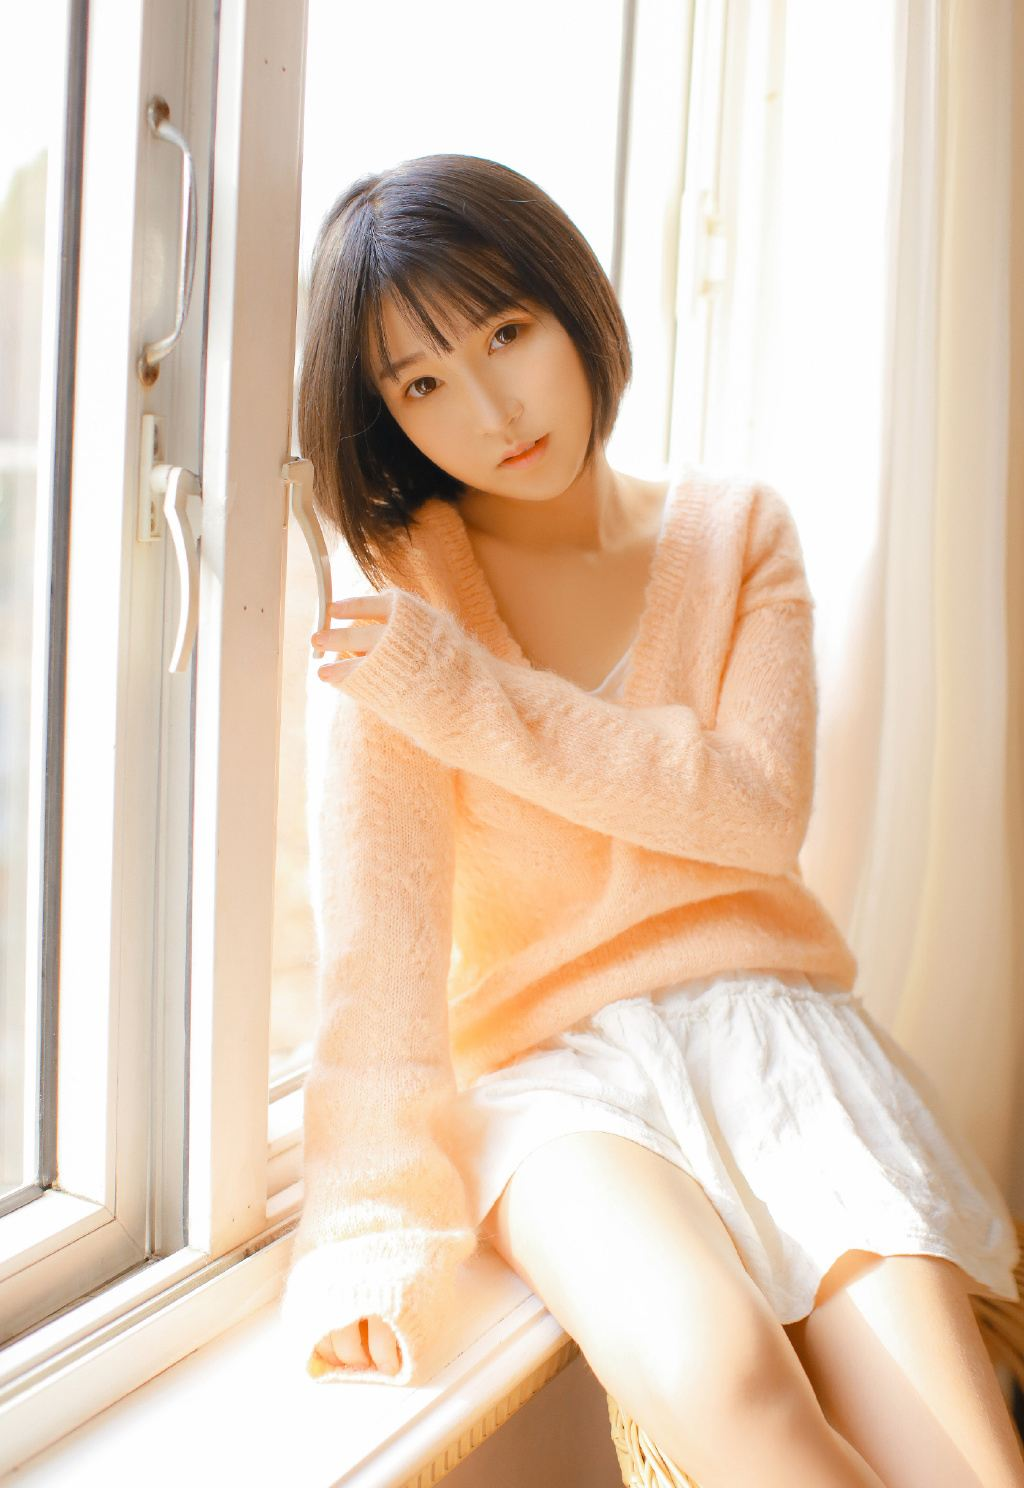person: (195, 181, 941, 1488)
